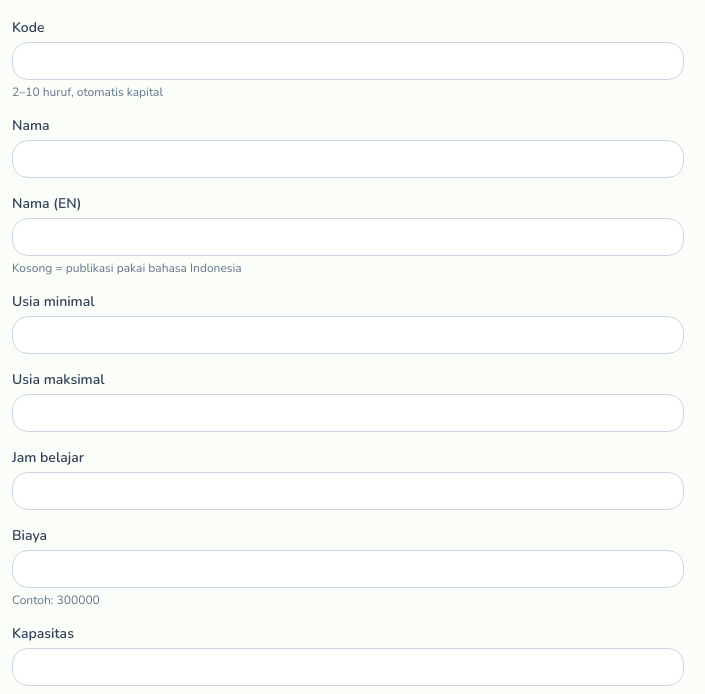
Scenario: Konten create page › shows per-field server errors from a 422 response
Type "TK" into the field labelled "Kode".
click(348, 61); type("TK")  # box [12, 42, 684, 80]
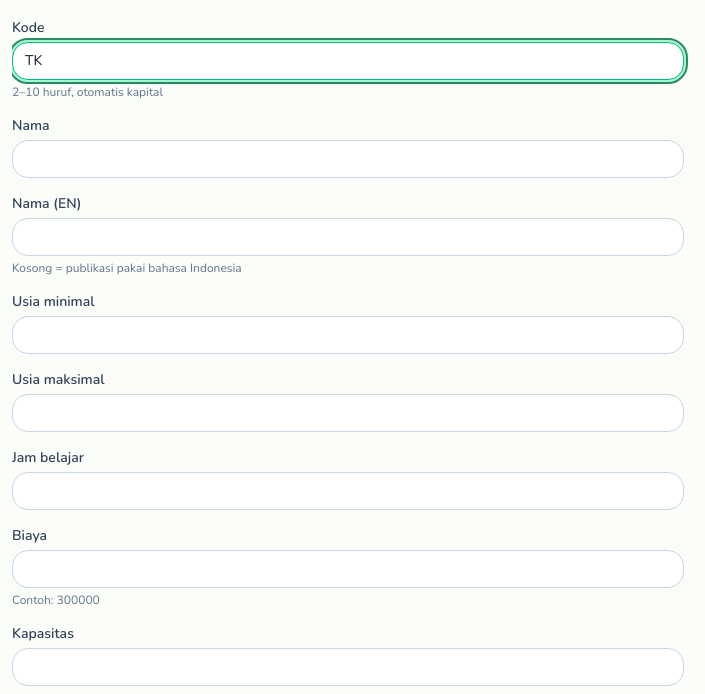
Type "TK Qur'ani Bintang" into the field labelled "Nama".
click(348, 159); type("TK Qur'ani Bintang")  # box [12, 140, 684, 178]
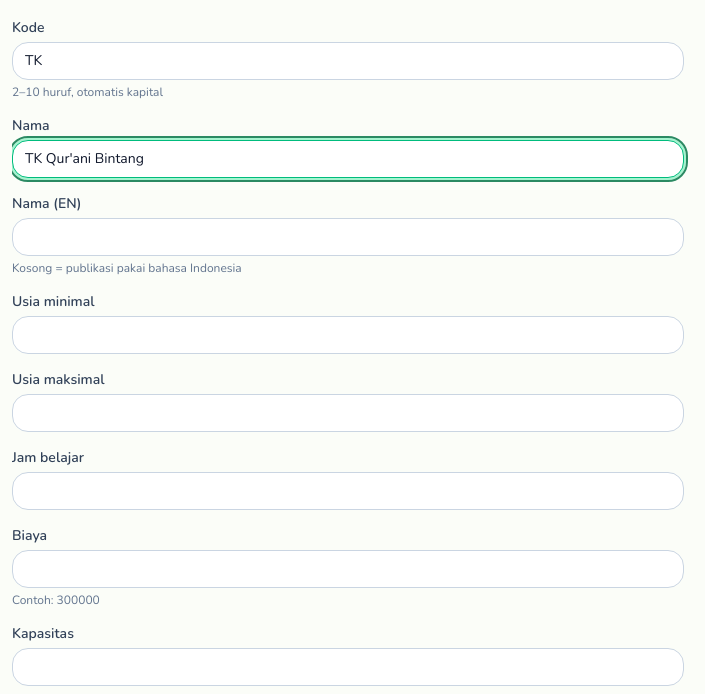
Type "5" into the number field labelled "Usia minimal".
click(348, 335); type("5")  # box [12, 316, 684, 354]
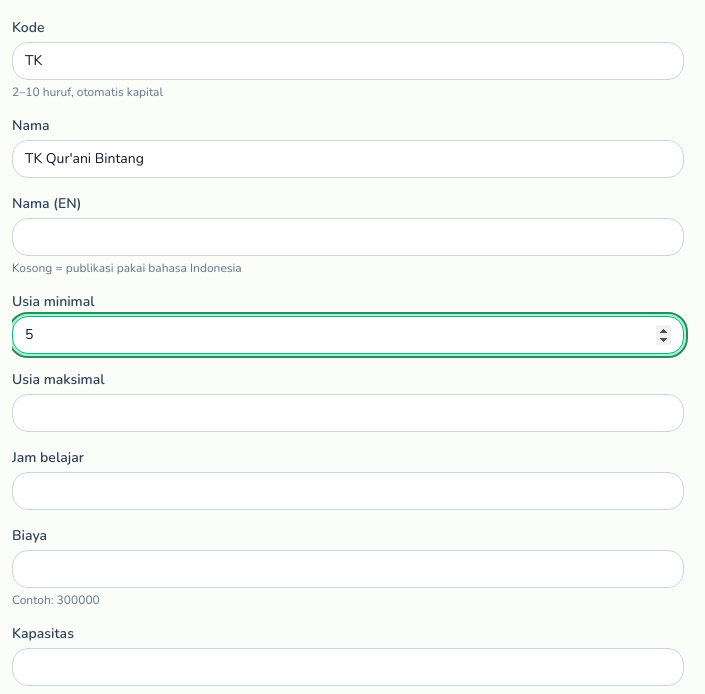
Type "6" into the number field labelled "Usia maksimal".
click(348, 413); type("6")  # box [12, 394, 684, 432]
(page scrolled)
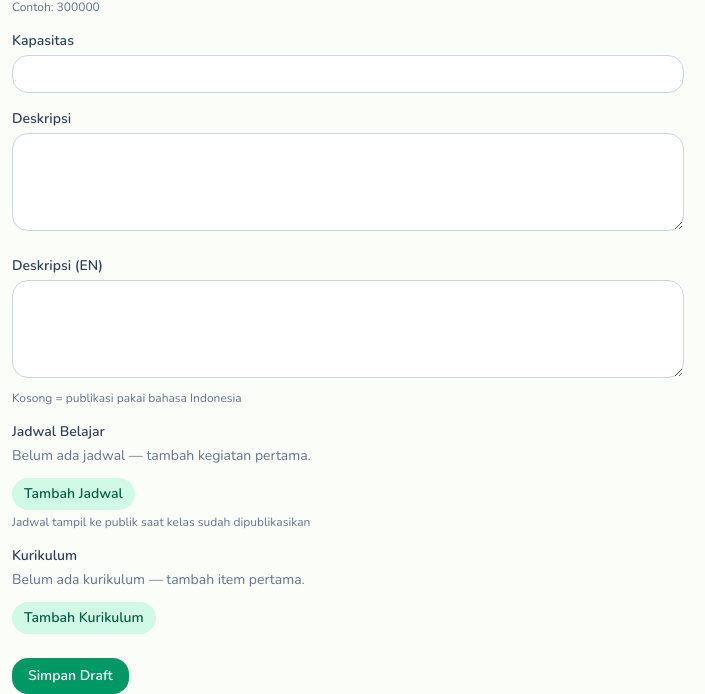
Click the button "Simpan Draft".
click(70, 676)  # box [12, 658, 129, 693]
(page scrolled)
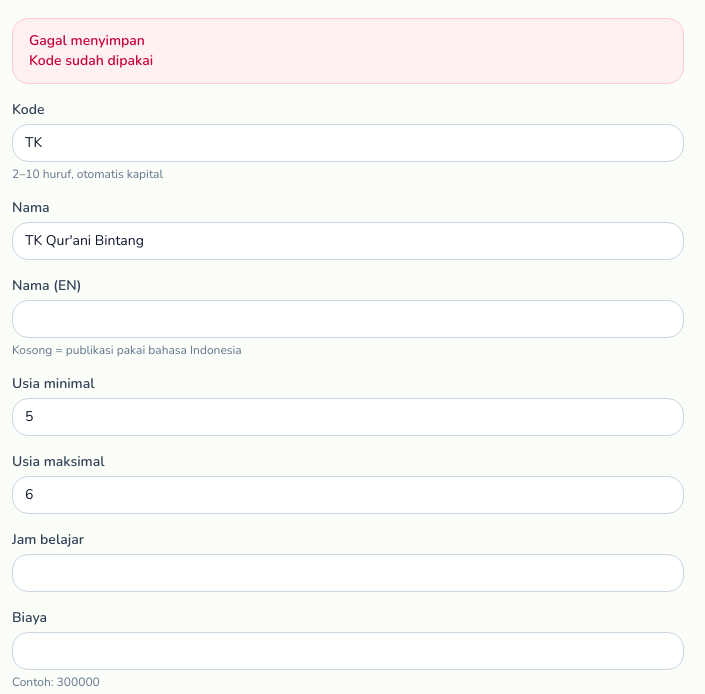
Result: the message shows "Kode sudah dipakai" at [29, 51, 153, 70]
Result: the message shows "Gagal menyimpan" at [29, 31, 145, 50]
